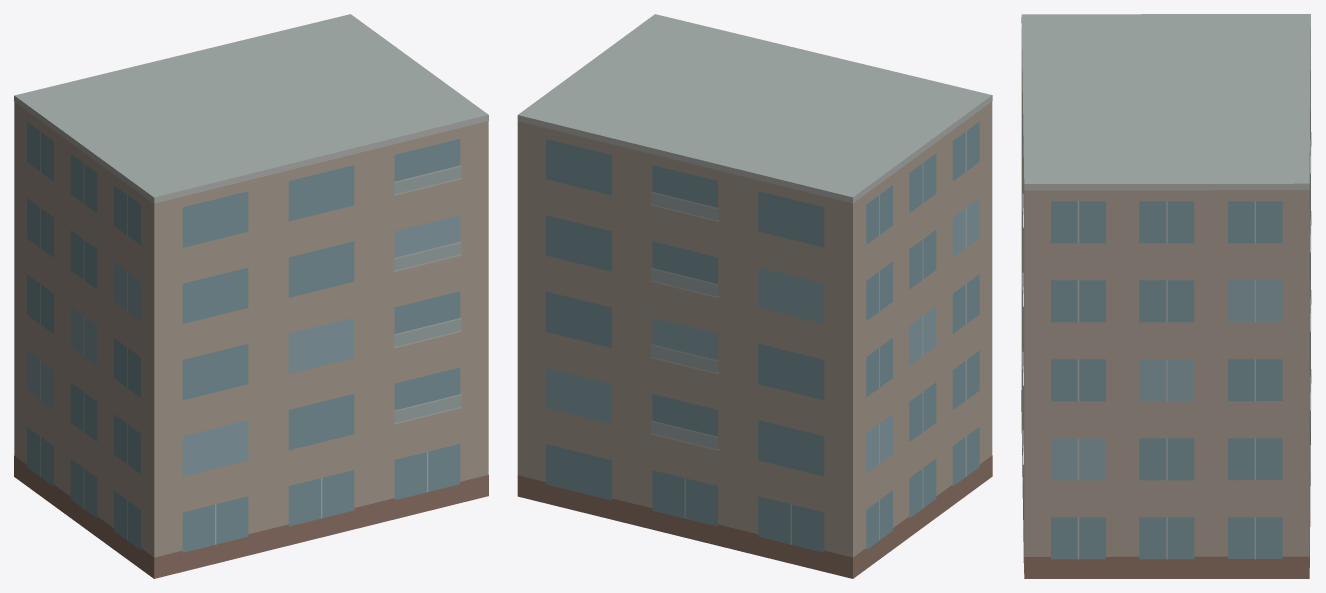
The model's file is survey-upis-32877399.glb.
3 renders of one model, left to right at view 1: azimuth 30°, elevation 25°; view 2: azimuth 150°, elevation 25°; view 3: azimuth 270°, elevation 25°, orthographic. The views are drawn at different scales.
Visible parts, largest first — view 1: survey-upis-32877399.tmp; view 2: survey-upis-32877399.tmp; view 3: survey-upis-32877399.tmp.
Boxes of the visible parts, x1,y1,x2,y2 form: survey-upis-32877399.tmp: (14, 14, 488, 578); survey-upis-32877399.tmp: (517, 14, 992, 578); survey-upis-32877399.tmp: (1021, 14, 1311, 578).
Bounding box in the file's own units: 14.09 × 15.25 × 10.15.
